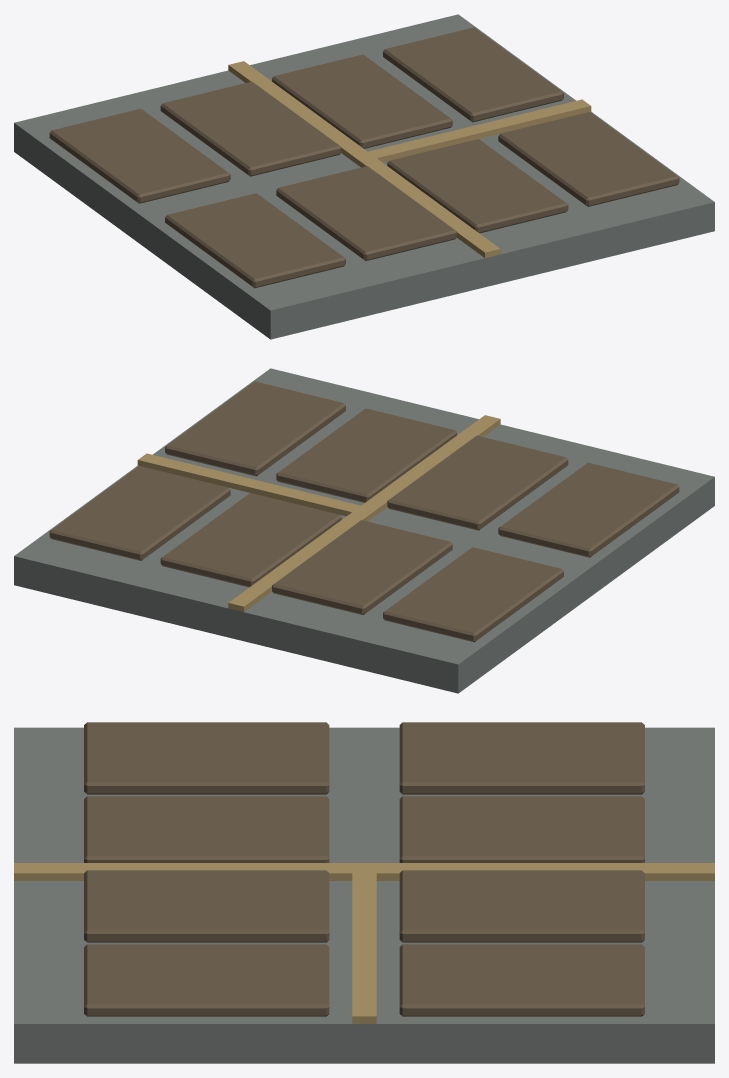
Rendered from terrain-cobble-t-junction.lod0.glb.
3 renders of one model, top to bottom at view 1: azimuth 30°, elevation 25°; view 2: azimuth 150°, elevation 25°; view 3: azimuth 270°, elevation 25°, orthographic. The views are drawn at different scales.
Visible parts, largest first — view 1: terrain-cobble-t-junction__body; view 2: terrain-cobble-t-junction__body; view 3: terrain-cobble-t-junction__body.
Boxes of the visible parts, x1=… form: terrain-cobble-t-junction__body: x1=14, y1=14, x2=714, y2=339; terrain-cobble-t-junction__body: x1=14, y1=368, x2=714, y2=693; terrain-cobble-t-junction__body: x1=14, y1=722, x2=714, y2=1063.
Size of the model in its own units: 2 by 0.165 by 2.
